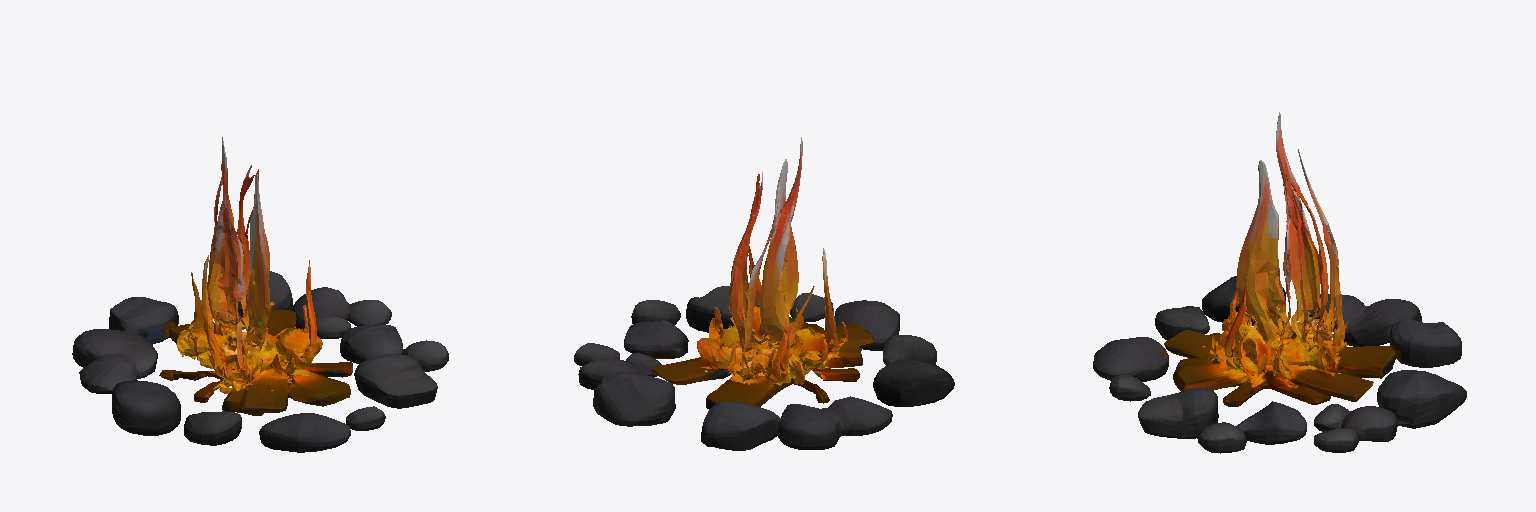
The picture shows the model from 3 angles: view 1: azimuth 30°, elevation 25°; view 2: azimuth 150°, elevation 25°; view 3: azimuth 270°, elevation 25°; orthographic projection.
Parts seen in each view (by area): view 1: tripo_node_fce180ce-9a90-4552-986d-[number redacted]fe494; view 2: tripo_node_fce180ce-9a90-4552-986d-[number redacted]fe494; view 3: tripo_node_fce180ce-9a90-4552-986d-[number redacted]fe494.
Part boxes in pixels (left/top/right/bottom): tripo_node_fce180ce-9a90-4552-986d-[number redacted]fe494: left=72, top=137, right=448, bottom=452; tripo_node_fce180ce-9a90-4552-986d-[number redacted]fe494: left=574, top=137, right=954, bottom=450; tripo_node_fce180ce-9a90-4552-986d-[number redacted]fe494: left=1093, top=112, right=1466, bottom=453.
Size of the model in its own units: 0.9792 by 0.7459 by 0.9949.
Materials: 1 (1 with a texture image).